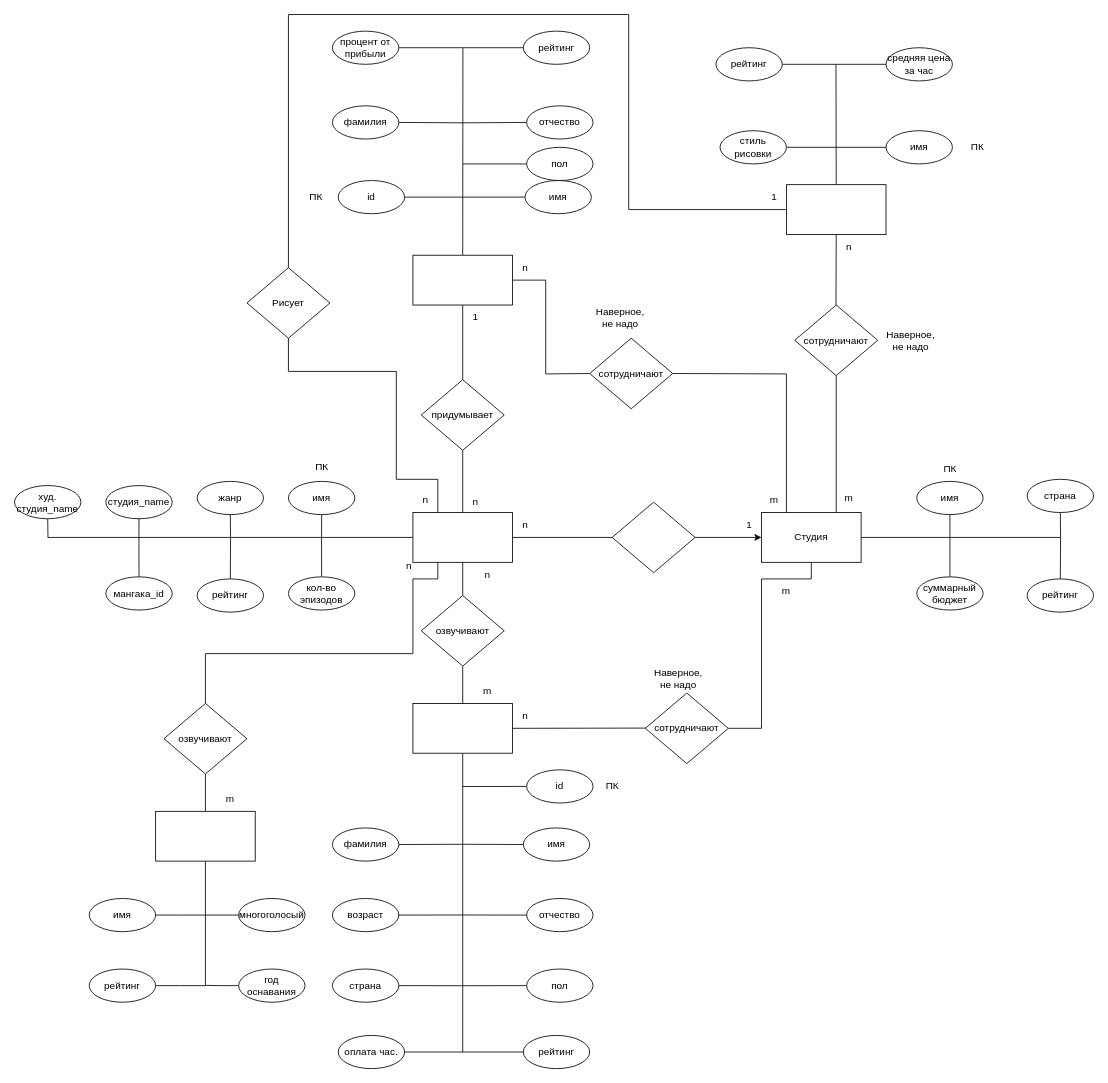
This 1108x1083 diagram has some shape labels left out. The box of each missing label's shape, as (x1, y1, x2, y2) in pixels:
Актеры озвучки: (412, 703, 513, 753)
Аниме тайтл: (412, 512, 513, 562)
Мангака: (412, 254, 513, 305)
принадлежит: (611, 501, 695, 573)
Студия переозвучки: (155, 810, 255, 861)
Художественная студия: (786, 184, 886, 234)
